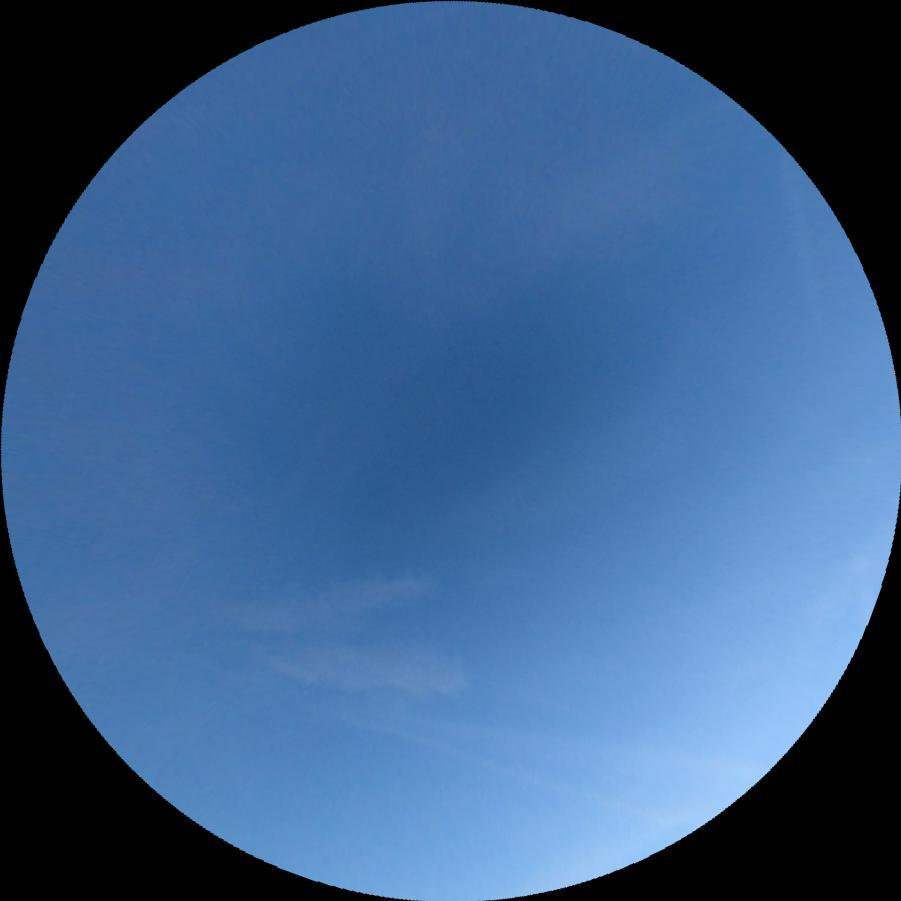unknow: (189, 666, 746, 836), (782, 178, 833, 349)
